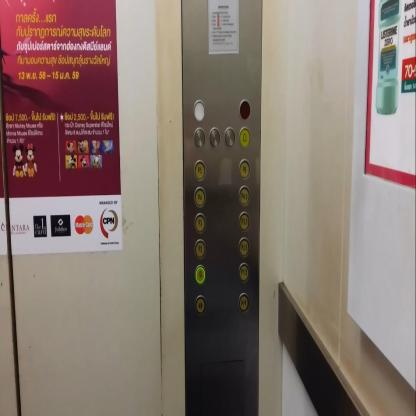G: (194, 263, 206, 285)
P15: (238, 262, 250, 282)
P2: (194, 238, 206, 260)
P25: (238, 237, 250, 258)
P3: (193, 212, 206, 233)
P35: (238, 209, 250, 232)
P4: (194, 186, 206, 207)
P45: (238, 184, 250, 206)
P5: (194, 159, 206, 180)
P6: (238, 158, 250, 179)
alarm: (238, 125, 251, 147)
close: (238, 292, 249, 312)
empty: (193, 126, 206, 150), (192, 99, 204, 123), (208, 126, 220, 150), (238, 98, 250, 121), (224, 126, 235, 148)
open: (194, 294, 206, 314)
